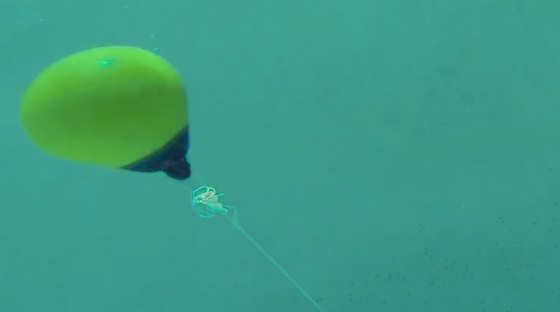yellow_buoy: (16, 42, 199, 182)
